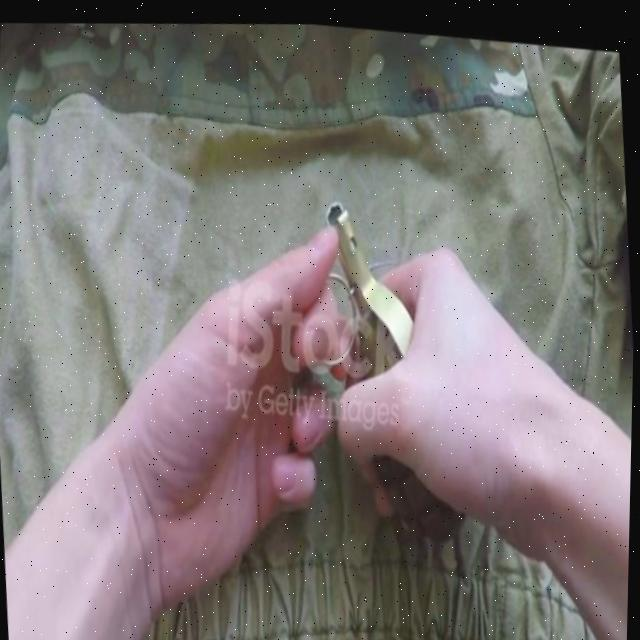grenade: (290, 181, 502, 545)
